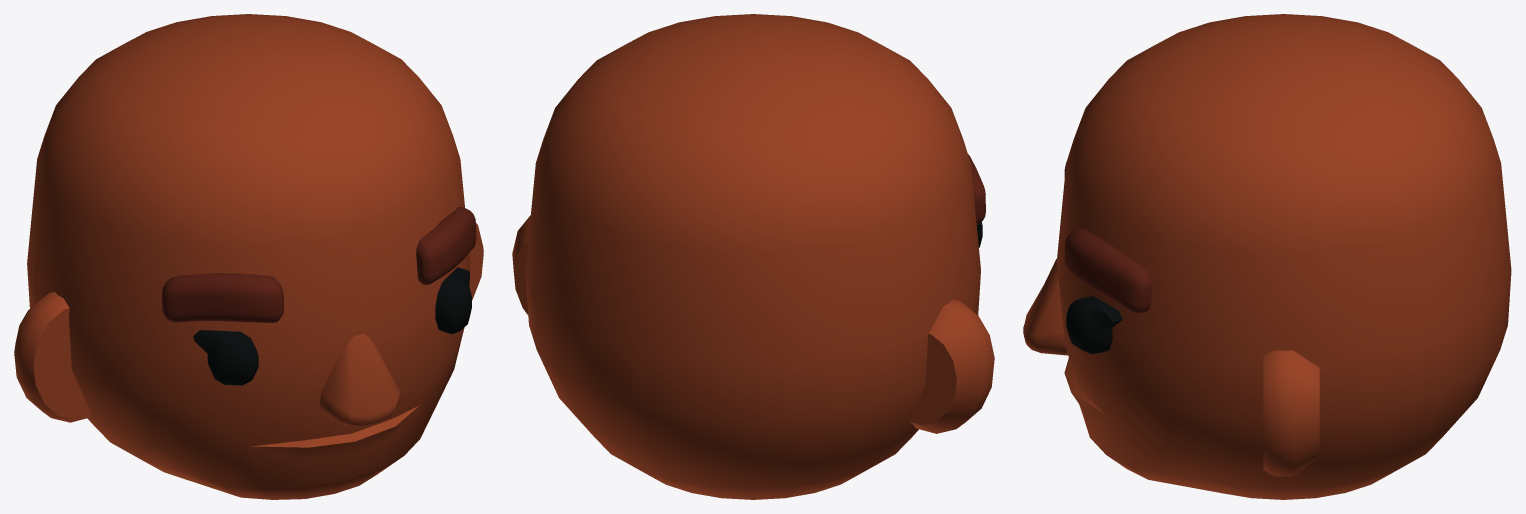
Rendered from mageHeadB.obj.
The picture shows the model from 3 angles, left to right: view 1: azimuth 30°, elevation 25°; view 2: azimuth 150°, elevation 25°; view 3: azimuth 270°, elevation 25°; orthographic projection. The views are drawn at different scales.
Parts seen in each view (by area): view 1: mageHeadB_Cube.3535; view 2: mageHeadB_Cube.3535; view 3: mageHeadB_Cube.3535.
Part boxes in pixels (<box>): mageHeadB_Cube.3535: <box>14,14,483,499</box>; mageHeadB_Cube.3535: <box>512,14,994,499</box>; mageHeadB_Cube.3535: <box>1023,14,1511,499</box>.
Size of the model in its own units: 1.18 by 0.9703 by 1.05.
